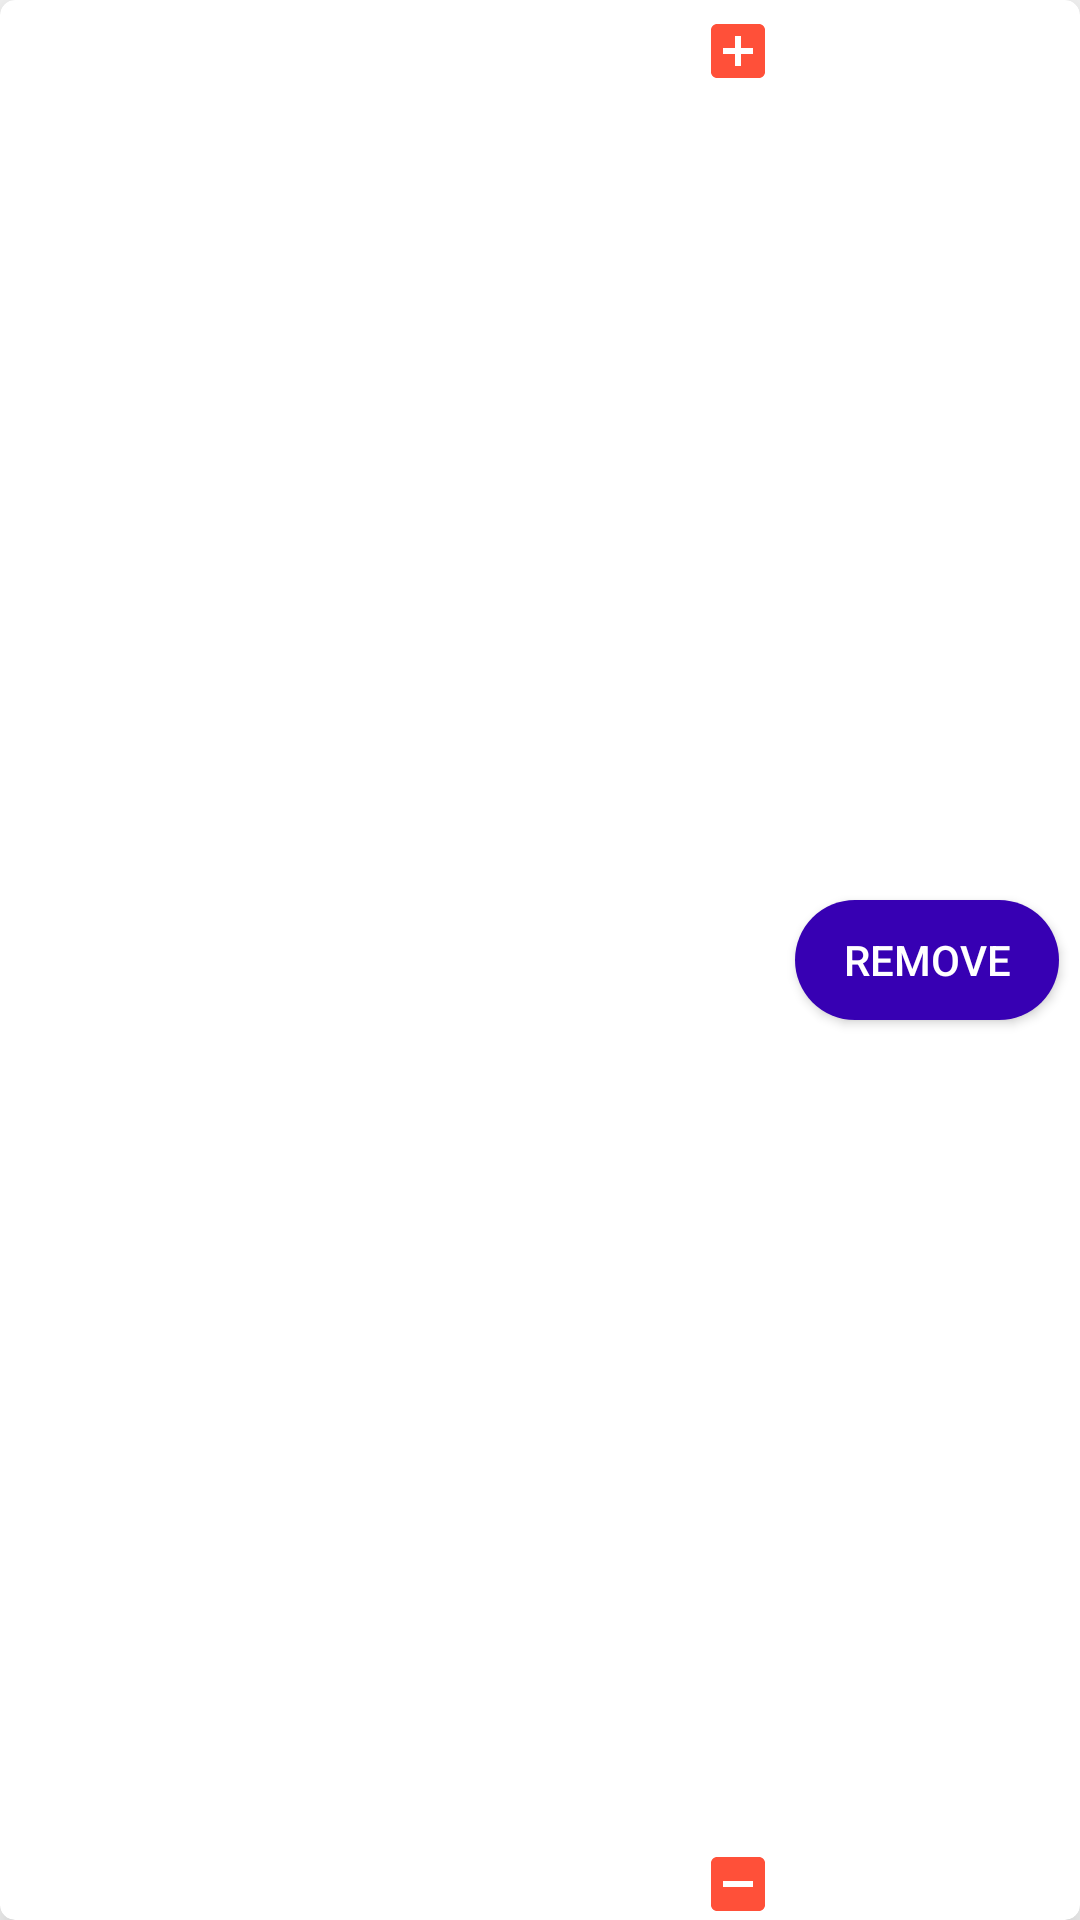

Icon click points for this 1080px x 1920px phone screenshot, format (x,y):
add: (738,51)
minus: (738,1884)
